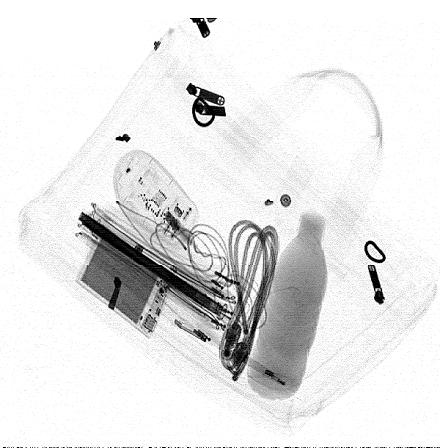Powerbank: (75, 225, 175, 339)
